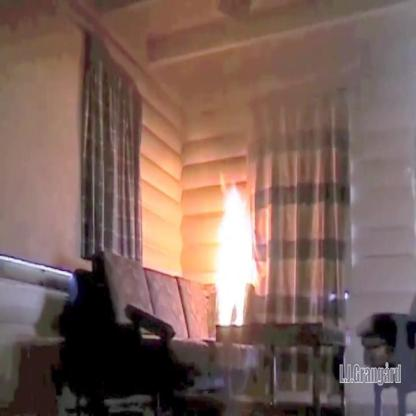fire: (214, 168, 262, 337)
